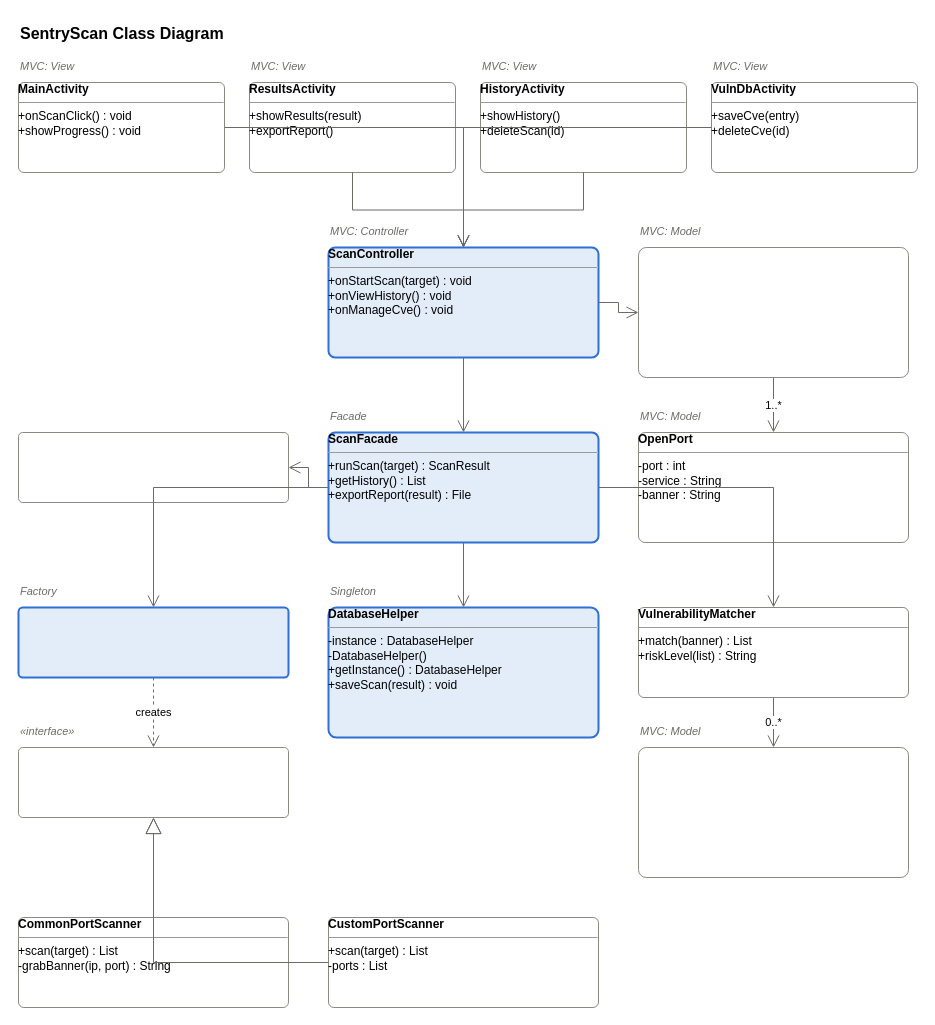
Some shapes in this 935 by 1025 pixel diagram are drawn without their labels. Here are the shapes that lost their labels. From the top down, the box of each, then its label:
(638, 246, 908, 378): ScanResult -target : String -date : String -riskLevel : String -openPorts : List
(18, 432, 288, 502): ReportGenerator +generate(result) : File
(17, 606, 289, 678): ScannerFactory +getScanner(mode) : Scanner
(18, 746, 288, 818): Scanner +scan(target) : List
(638, 746, 908, 878): CveEntry -cveId : String -service : String -version : String -severity : String
